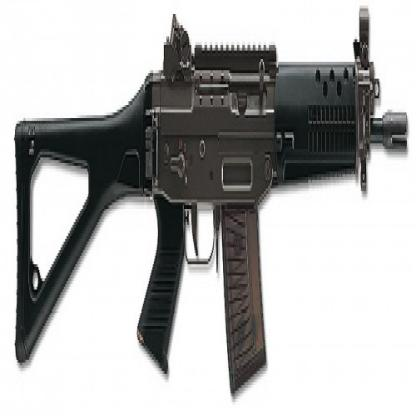Gun: (12, 0, 415, 413)
